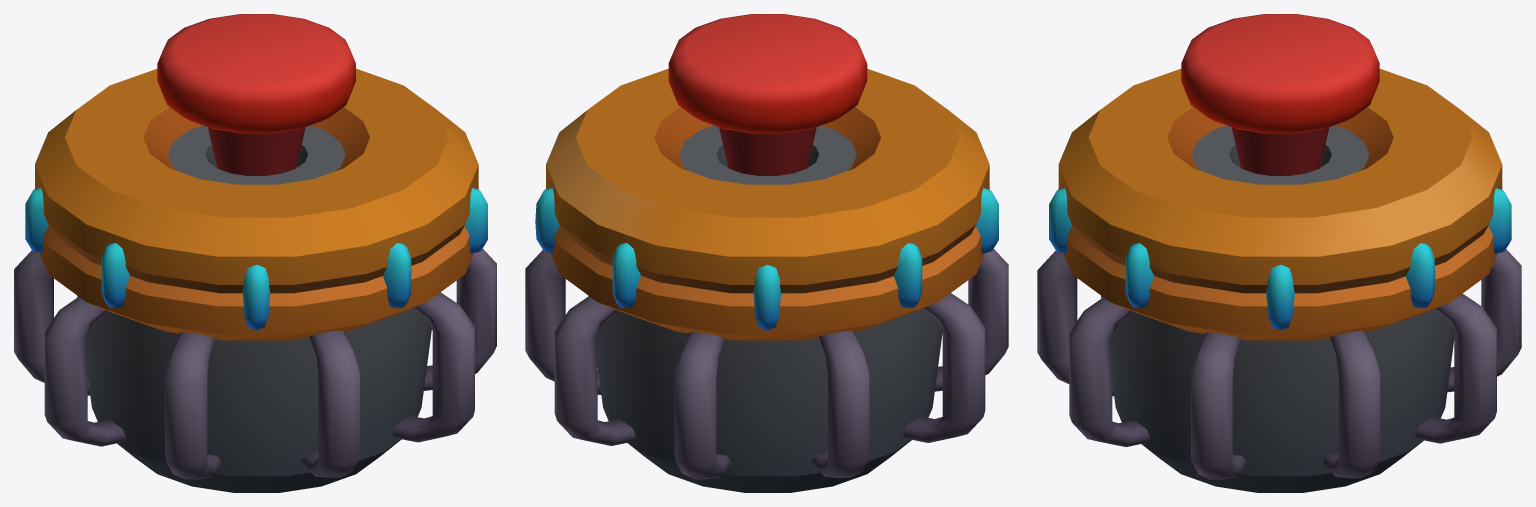
File: SM_Checkpoint_ButtonActive_01.fbx
The picture shows the model from 3 angles, left to right: view 1: azimuth 30°, elevation 25°; view 2: azimuth 150°, elevation 25°; view 3: azimuth 270°, elevation 25°; orthographic projection.
Parts seen in each view (by area): view 1: SM_Checkpoint_ButtonActive_01; view 2: SM_Checkpoint_ButtonActive_01; view 3: SM_Checkpoint_ButtonActive_01.
Part boxes in pixels (<box>): SM_Checkpoint_ButtonActive_01: <box>14,14,496,492</box>; SM_Checkpoint_ButtonActive_01: <box>525,14,1008,492</box>; SM_Checkpoint_ButtonActive_01: <box>1037,14,1521,492</box>.
Size of the model in its own units: 2.6 by 2.32 by 2.62.
